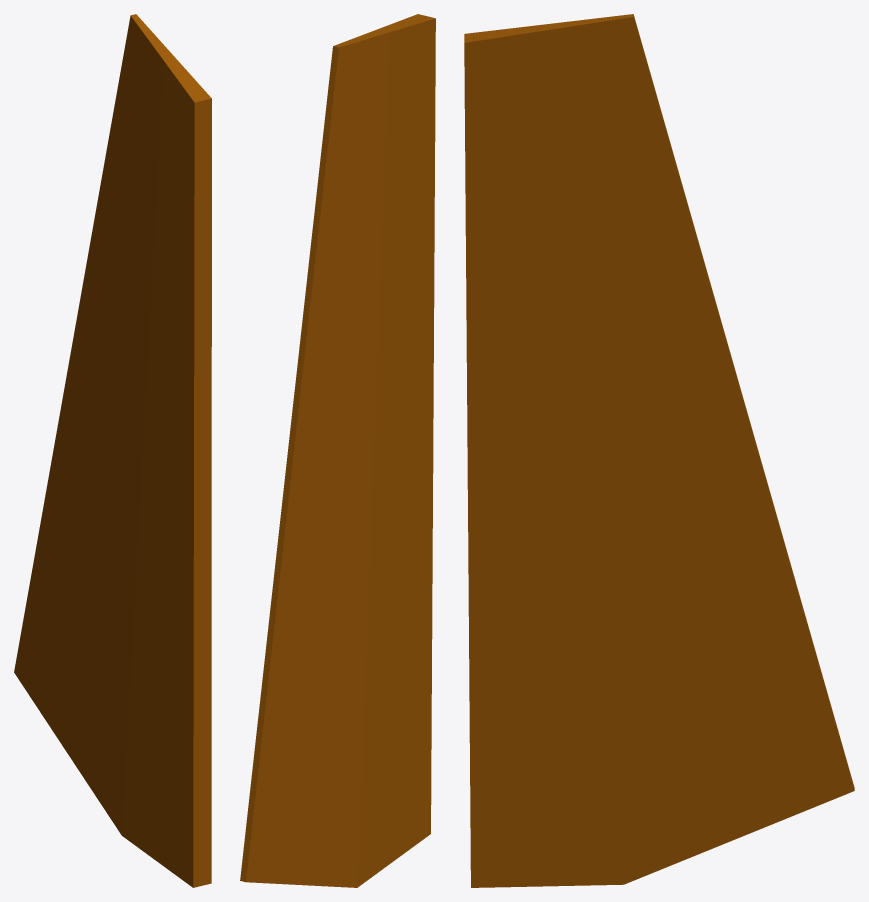
File: rutter.obj
The picture shows the model from 3 angles, left to right: view 1: azimuth 30°, elevation 25°; view 2: azimuth 150°, elevation 25°; view 3: azimuth 270°, elevation 25°; orthographic projection. The views are drawn at different scales.
Visible parts, largest first — view 1: Cube_Cube.001; view 2: Cube_Cube.001; view 3: Cube_Cube.001.
Boxes of the visible parts, x1,y1,x2,y2 form: Cube_Cube.001: (14, 14, 211, 887); Cube_Cube.001: (240, 14, 435, 887); Cube_Cube.001: (464, 14, 854, 887).
Size of the model in its own units: 0.1605 by 6.06 by 2.46.
